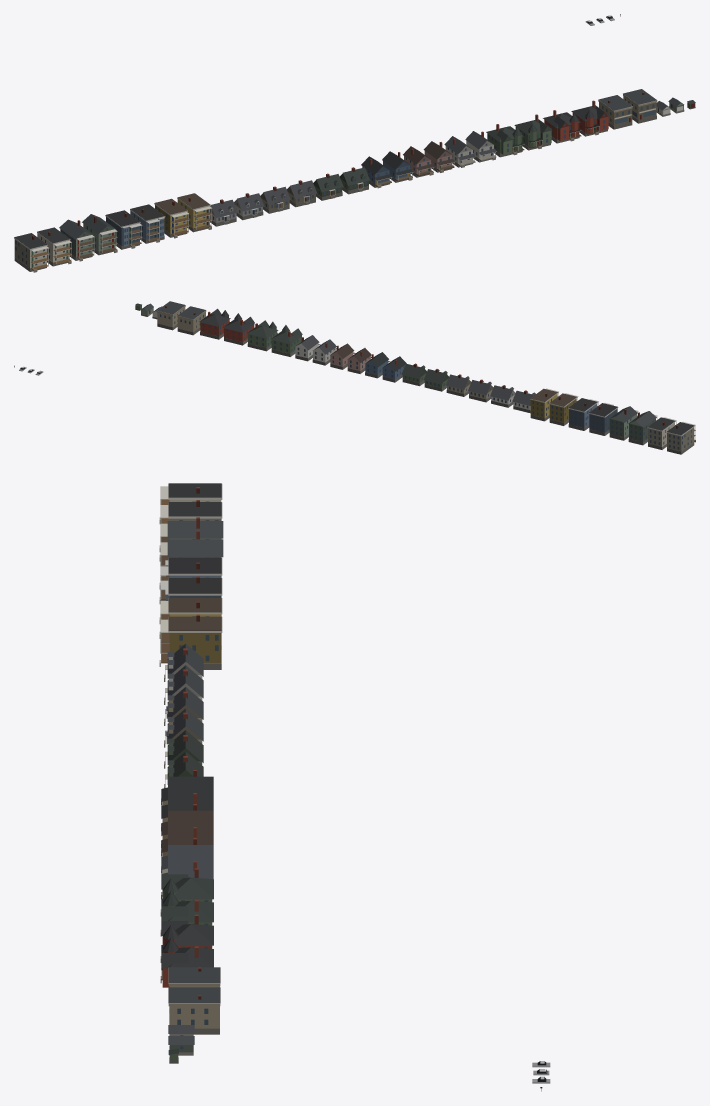
File: houses_far.glb
The picture shows the model from 3 angles, top to bottom: view 1: azimuth 30°, elevation 25°; view 2: azimuth 150°, elevation 25°; view 3: azimuth 270°, elevation 25°; orthographic projection. The views are drawn at different scales.
Visible parts, largest first — view 1: td_a_2, td_c_2, td_b_2, td_cm_2, td_bm_2, td_d_2, td_am_2, td_dm_2, vic_a_2, vic_b_2, store_a_2, vic_am_2 (+14 smaller); view 2: td_a_2, td_c_2, td_cm_2, vic_a_2, vic_am_2, vic_bm_2, vic_b_2, td_bm_2, td_d_2, td_dm_2, td_b_2, store_a_2 (+14 smaller); view 3: td_dm_2, store_am_2, vic_a_2, vic_b_2, vic_bm_2, td_bm_2, td_cm_2, td_c_2, td_b_2, td_d_2, vic_am_2, td_am_2 (+7 smaller).
Boxes of the visible parts, x1,y1,x2,y2 form: td_a_2: [14, 233, 48, 272]; td_c_2: [105, 210, 142, 249]; td_b_2: [59, 219, 94, 261]; td_cm_2: [130, 204, 165, 243]; td_bm_2: [82, 214, 117, 255]; td_d_2: [154, 198, 188, 238]; td_am_2: [37, 227, 71, 266]; td_dm_2: [177, 193, 211, 232]; vic_a_2: [486, 124, 524, 157]; vic_b_2: [543, 110, 581, 143]; store_a_2: [598, 95, 632, 129]; vic_am_2: [514, 114, 551, 150]; td_a_2: [666, 422, 695, 454]; td_c_2: [588, 403, 618, 435]; td_cm_2: [568, 398, 598, 430]; vic_a_2: [270, 325, 302, 356]; vic_am_2: [247, 320, 278, 351]; vic_bm_2: [199, 308, 230, 339]; vic_b_2: [223, 313, 254, 345]; td_bm_2: [609, 406, 638, 440]; td_d_2: [549, 393, 578, 425]; td_dm_2: [530, 388, 558, 421]; td_b_2: [628, 411, 657, 445]; store_a_2: [177, 306, 206, 335]; td_dm_2: [159, 614, 222, 669]; store_am_2: [168, 987, 220, 1034]; vic_a_2: [160, 868, 213, 923]; vic_b_2: [160, 914, 213, 962]; vic_bm_2: [160, 937, 213, 987]; td_bm_2: [159, 530, 223, 589]; td_cm_2: [159, 576, 222, 623]; td_c_2: [159, 558, 222, 603]; td_b_2: [159, 517, 223, 561]; td_d_2: [159, 598, 222, 649]; vic_am_2: [160, 891, 213, 946]; td_am_2: [159, 500, 222, 551].
Bounding box in the file's own units: 350 × 14.8 × 101.
